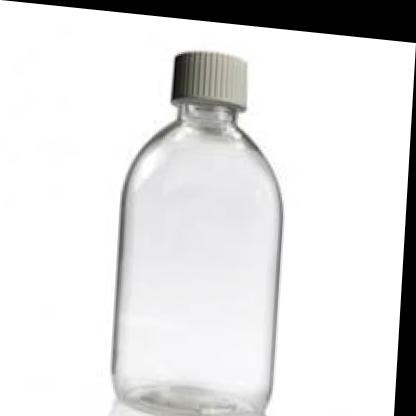trash: (111, 52, 281, 415)
